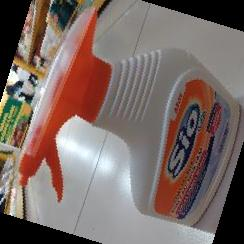sio: (18, 6, 244, 236)
